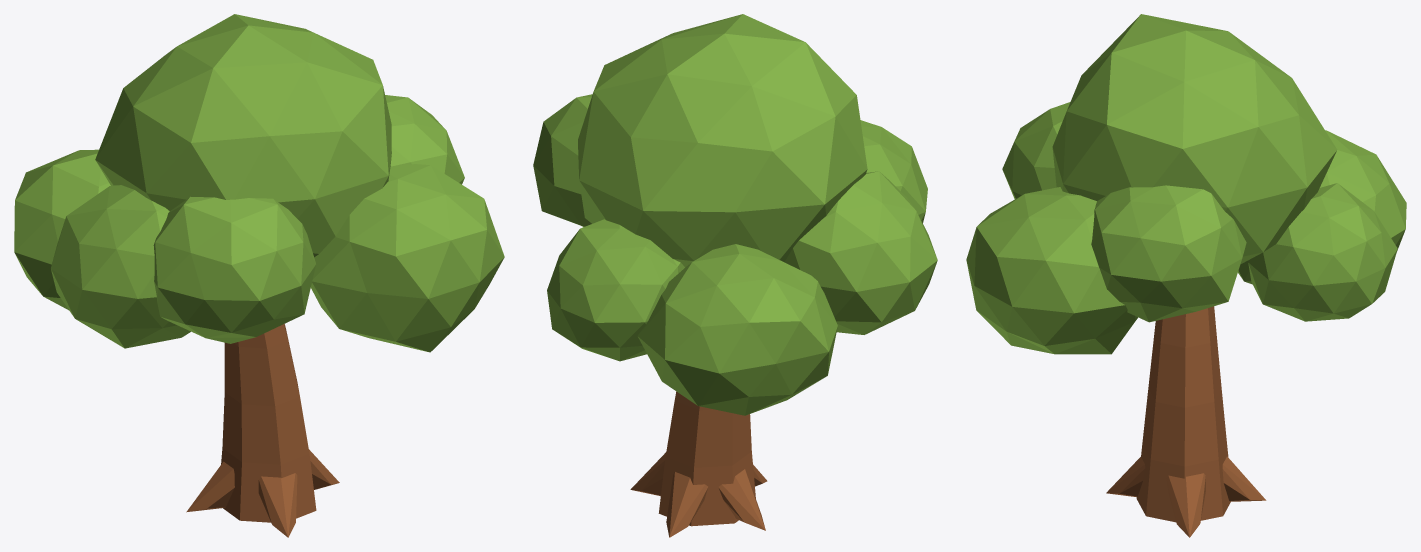
The model's file is tree_a.glb.
3 renders of one model, left to right at view 1: azimuth 30°, elevation 25°; view 2: azimuth 150°, elevation 25°; view 3: azimuth 270°, elevation 25°, orthographic. The views are drawn at different scales.
Visible parts, largest first — view 1: tree_a_laub, tree_a_rinde; view 2: tree_a_laub, tree_a_rinde; view 3: tree_a_laub, tree_a_rinde.
Boxes of the visible parts, box(x1,y1,x2,y2) form: tree_a_laub: box(14, 14, 504, 352); tree_a_rinde: box(186, 324, 339, 537); tree_a_laub: box(533, 14, 937, 415); tree_a_rinde: box(630, 391, 767, 537); tree_a_laub: box(966, 14, 1406, 354); tree_a_rinde: box(1106, 306, 1266, 537).
Size of the model in its own units: 3.64 by 4.35 by 3.75.
